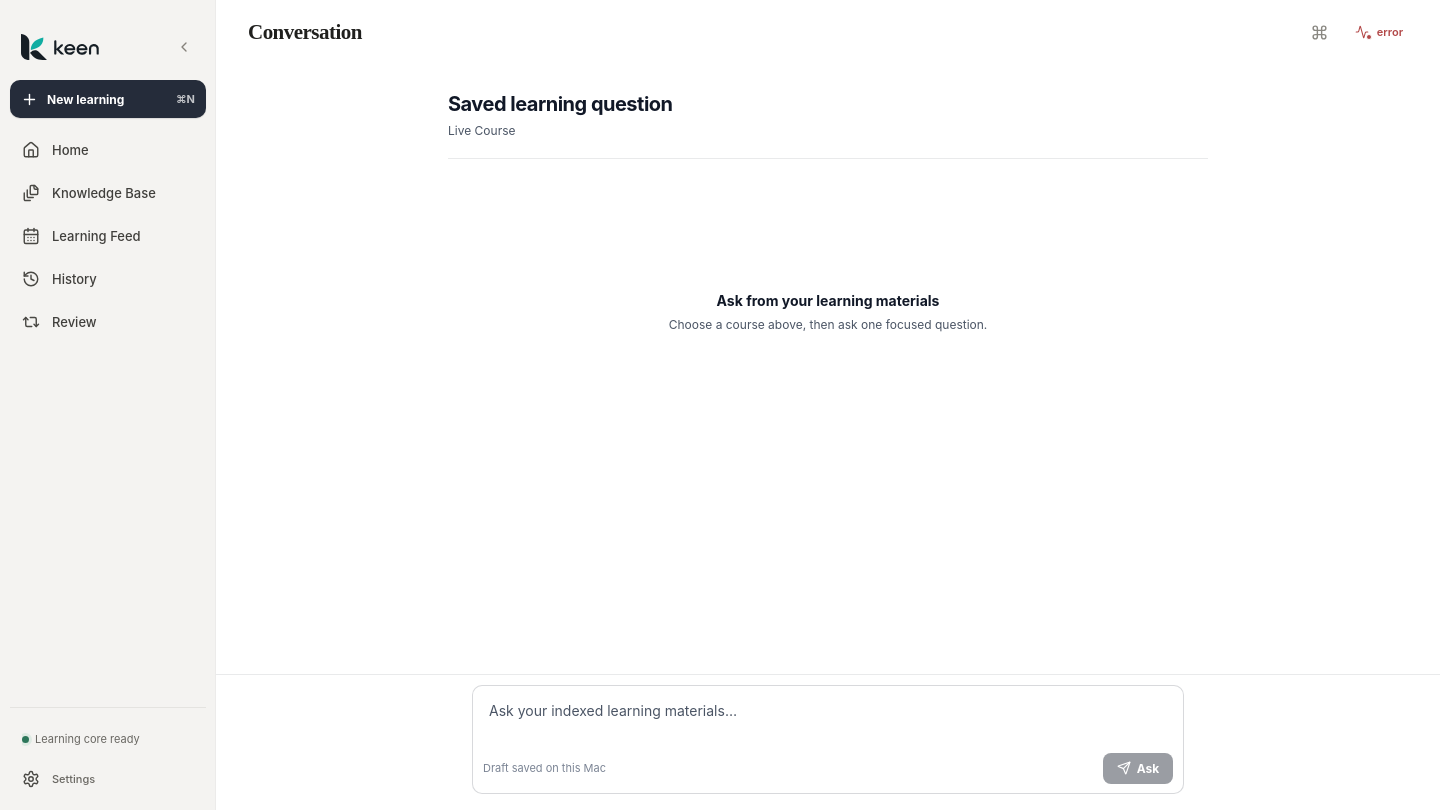
Conversation local RAG integration › renders provider-missing as a real terminal error with no Demo answer
Check: the text named "Conversation course scope" is shown, box [448, 122, 516, 140]
Type "Explain this" into the text box named "Reply" at [828, 721], box [483, 695, 1173, 748]
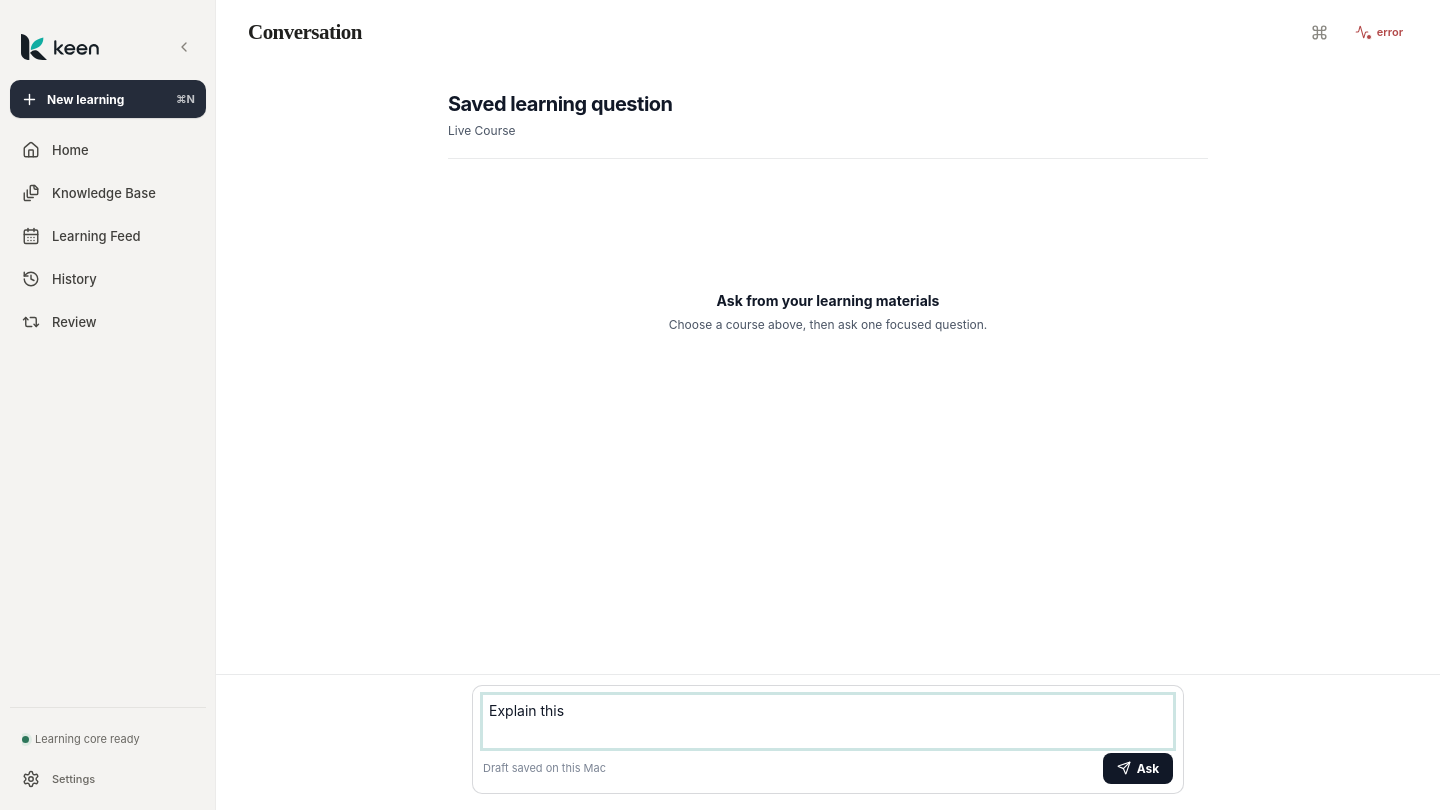
Click the button with aria-label "Ask question" at [1138, 768], box [1103, 752, 1173, 784]
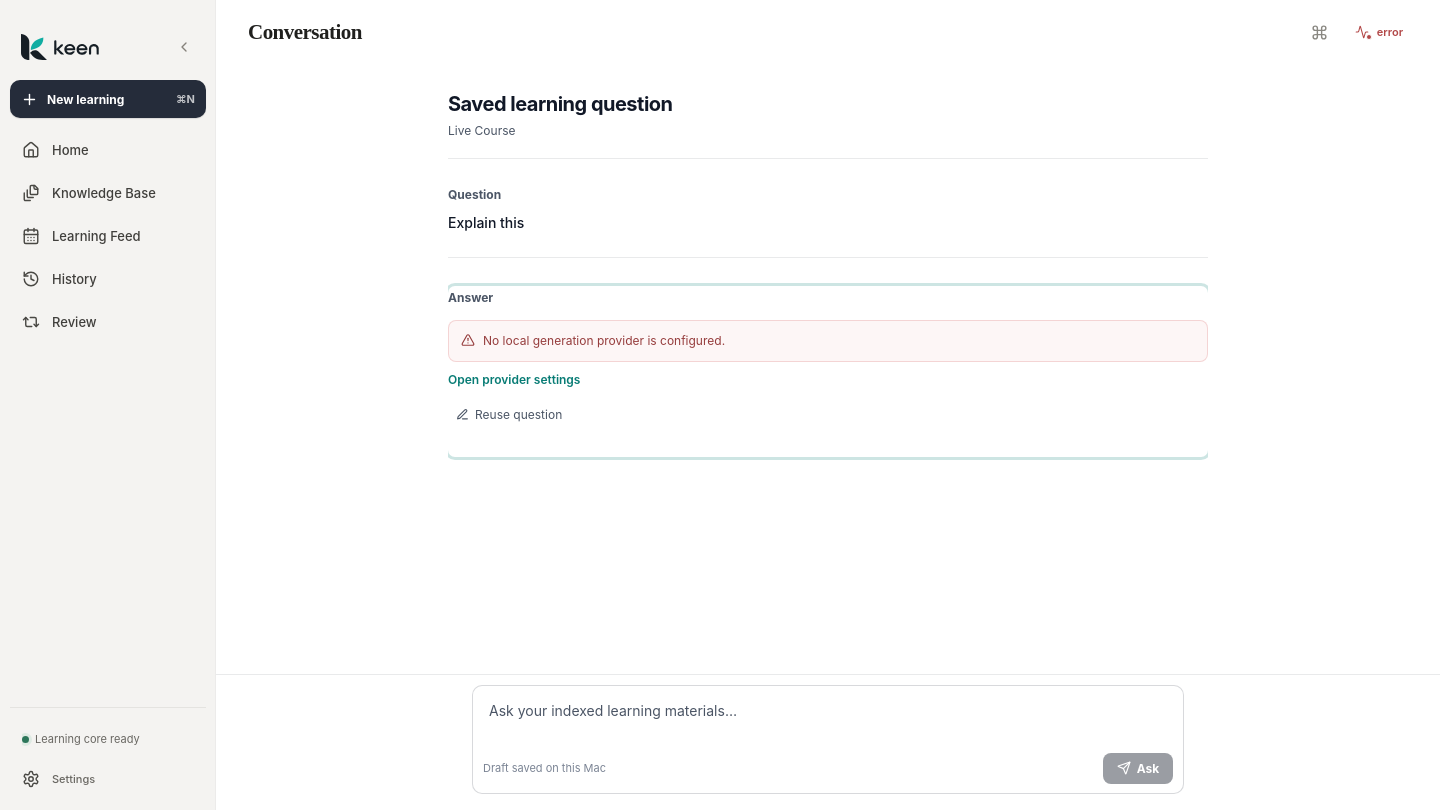
Check: the message shows "No local generation provider is configured", box [483, 333, 725, 348]
